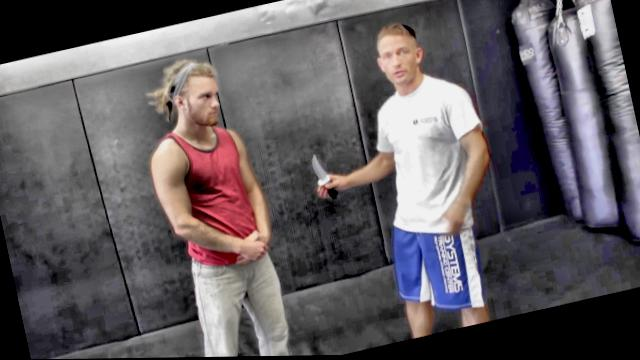knife: (300, 142, 348, 208)
